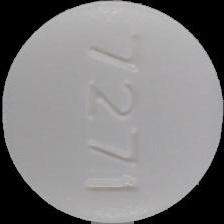54458-866: (0, 0, 224, 224)
